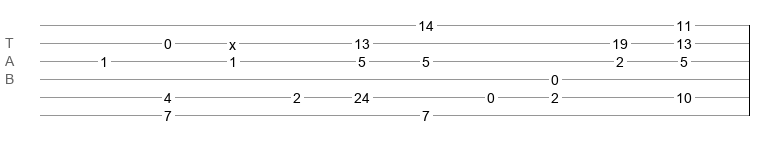0: (164, 36, 172, 46), (487, 90, 495, 100), (551, 72, 559, 82)
1: (100, 54, 108, 64), (229, 54, 237, 64)
10: (676, 90, 692, 100)
11: (676, 18, 692, 28)
13: (354, 36, 370, 46), (676, 36, 692, 46)
14: (418, 18, 434, 28)
19: (612, 36, 628, 46)
2: (293, 90, 301, 100), (551, 90, 559, 100), (616, 54, 624, 64)
24: (354, 90, 370, 100)
4: (164, 90, 172, 100)
5: (358, 54, 366, 64), (422, 54, 430, 64), (680, 54, 688, 64)
7: (164, 108, 172, 118), (422, 108, 430, 118)
x: (229, 37, 236, 45)
